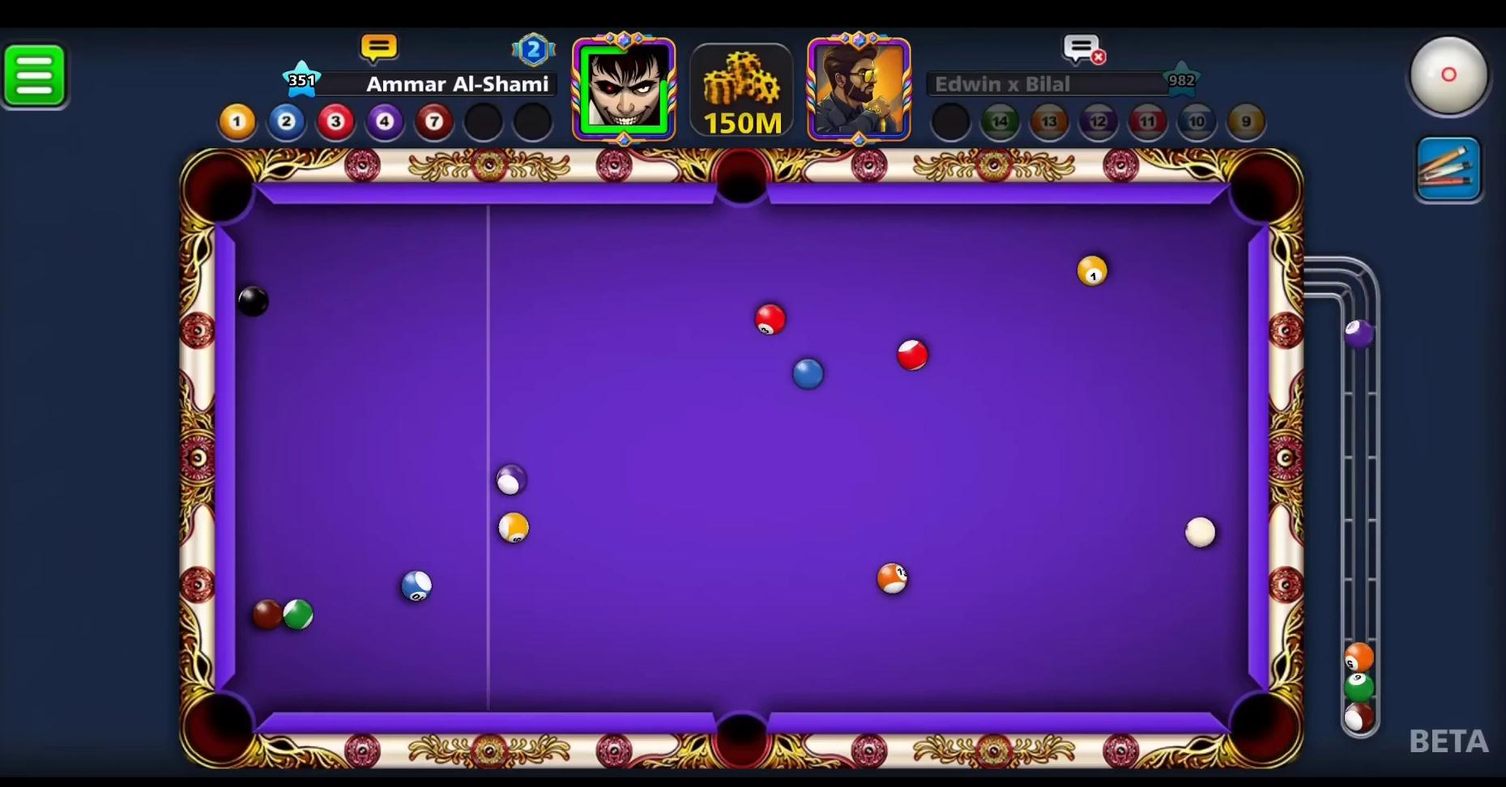Ball: (276, 585, 321, 643), (488, 501, 538, 553), (393, 562, 442, 612), (226, 283, 278, 324), (487, 458, 536, 500), (244, 591, 289, 636), (872, 555, 913, 602), (1070, 252, 1117, 291), (744, 301, 790, 338), (894, 336, 935, 373), (788, 355, 826, 393)
Hole: (1214, 679, 1309, 776), (175, 138, 266, 234), (173, 687, 267, 772), (1220, 141, 1303, 236), (702, 142, 783, 223), (704, 697, 781, 776)
Play_Area: (233, 204, 1239, 717)
Spin: (1402, 27, 1503, 129)
White: (1180, 513, 1222, 551)
